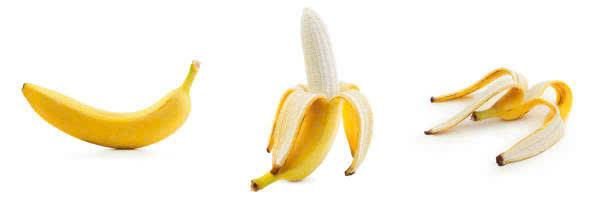banana: (253, 0, 384, 198), (418, 35, 593, 174), (21, 64, 210, 154)
